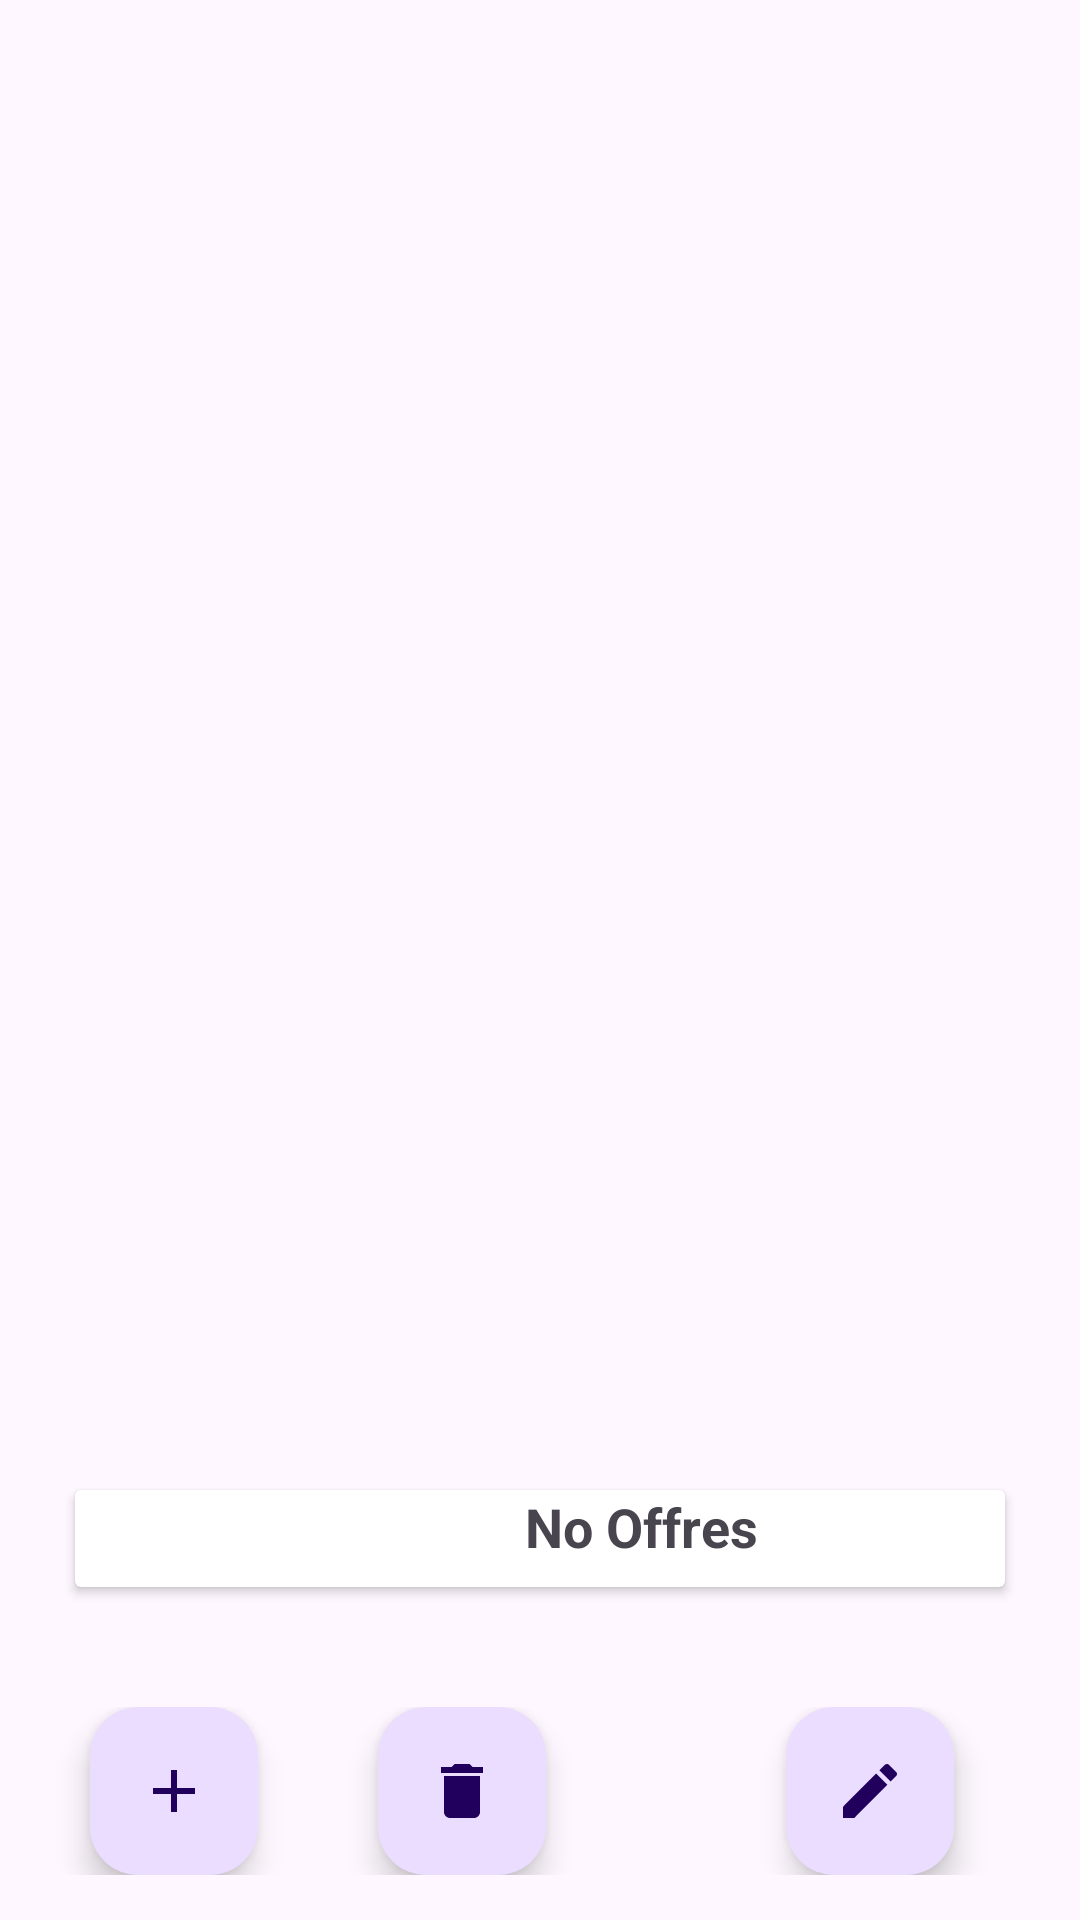

Named icons in this screenshot (1080 x 1920) and their centers, [x,y]:
add: [174,1791]
delete: [462,1791]
edit: [870,1791]
